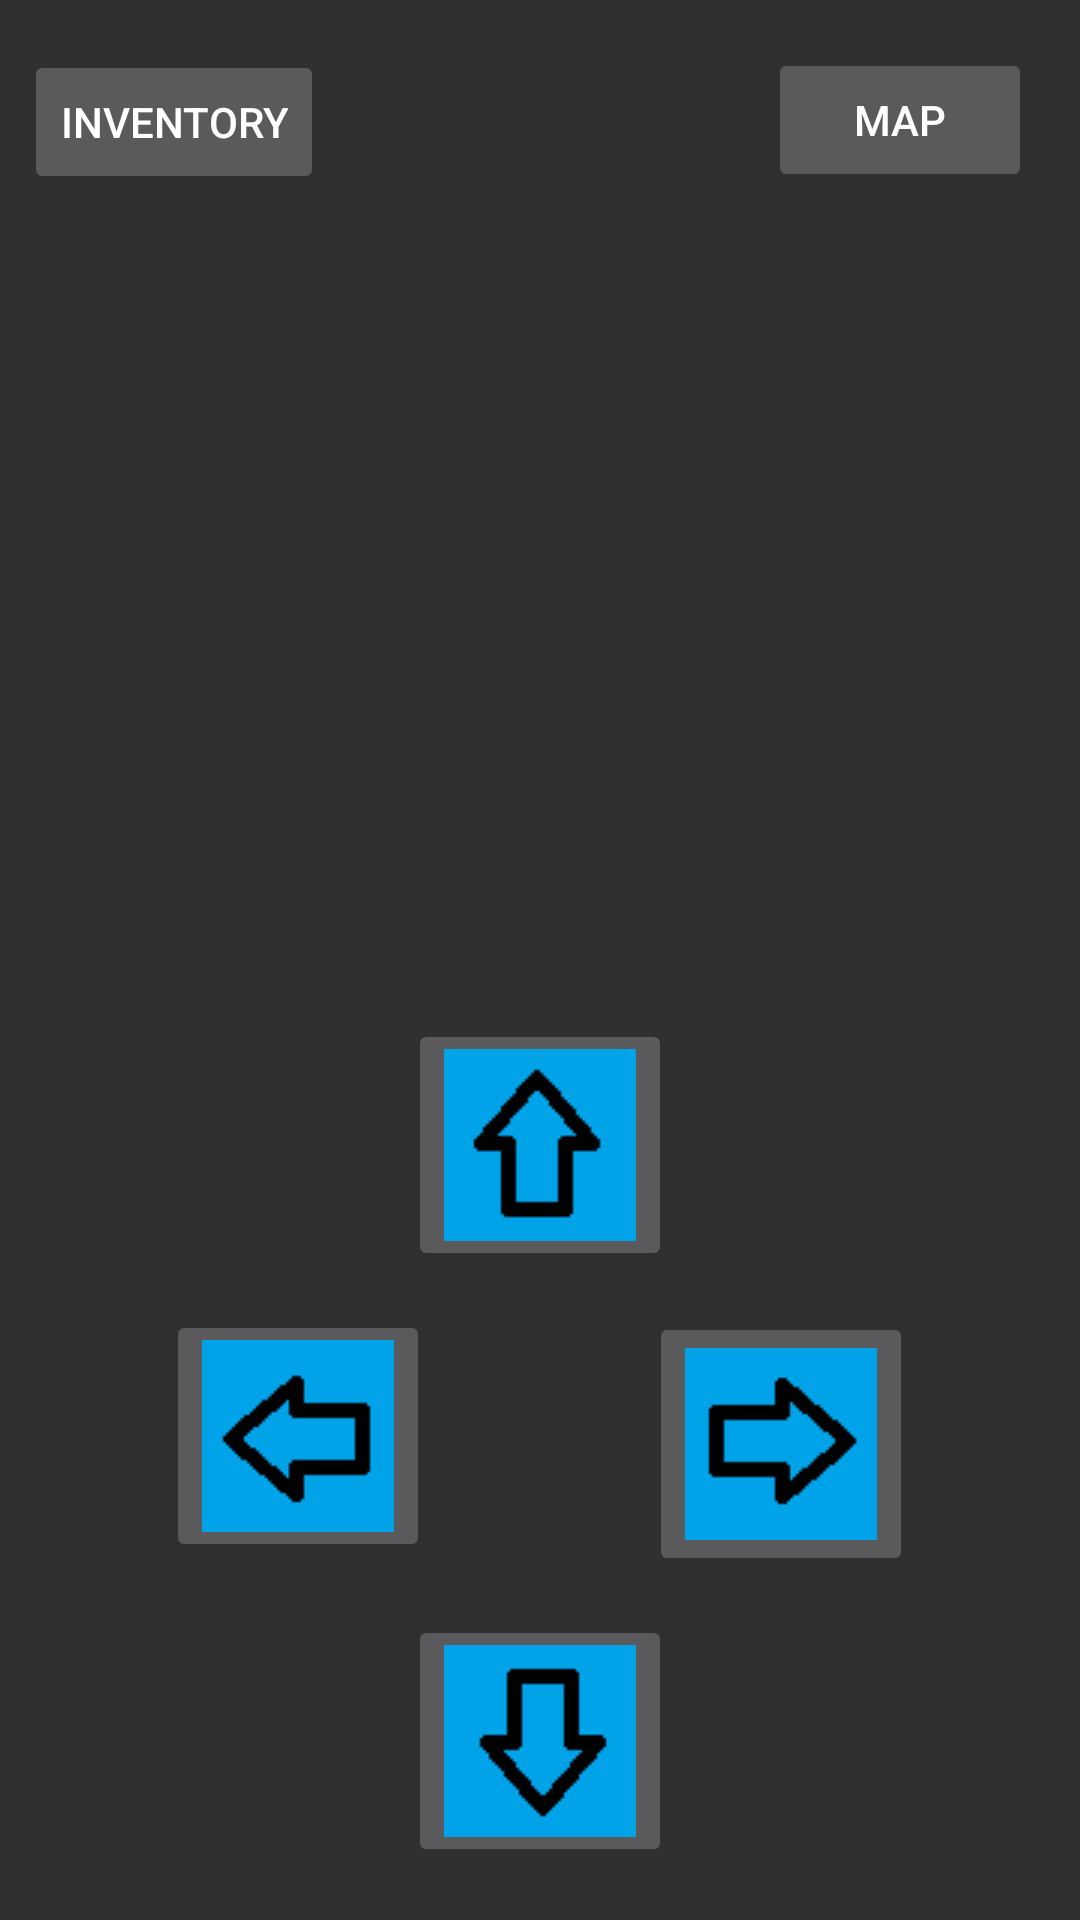

Where icons sit on this 1080x1920 app screen, as (x1, y1, x2, y2):
arrow down: (420, 1633, 660, 1849)
arrow left: (178, 1328, 418, 1544)
arrow right: (661, 1330, 901, 1558)
arrow up: (420, 1037, 660, 1253)
